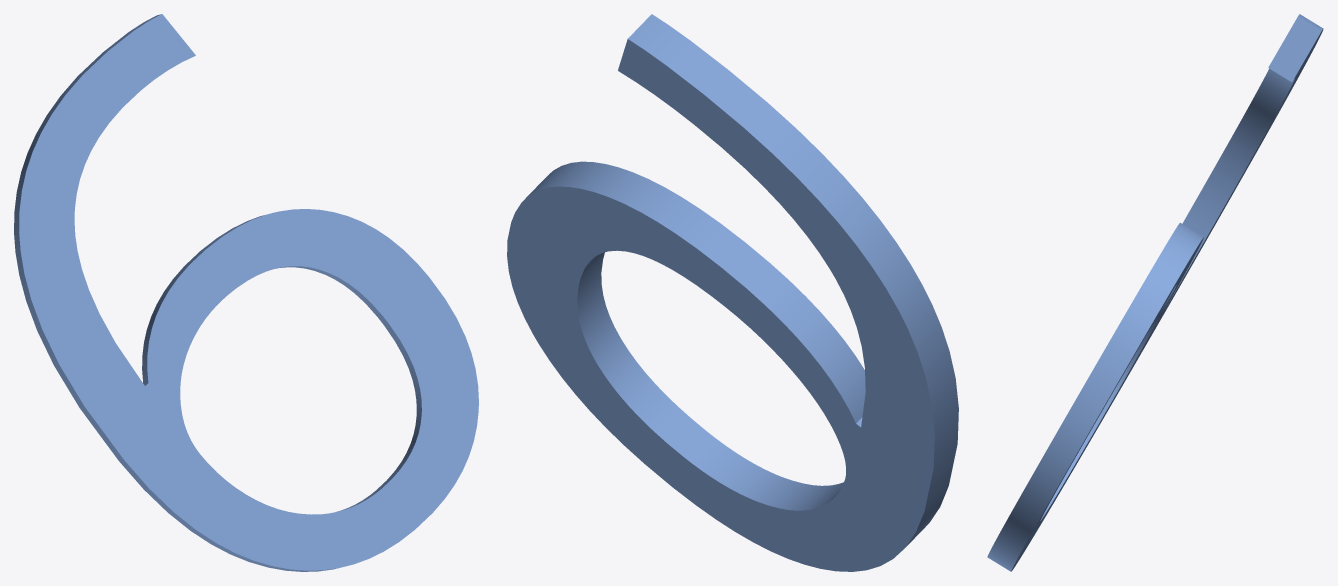
The model's file is New_Number_6.gltf.
The picture shows the model from 3 angles, left to right: view 1: azimuth 30°, elevation 25°; view 2: azimuth 150°, elevation 25°; view 3: azimuth 270°, elevation 25°; orthographic projection. The views are drawn at different scales.
Visible parts, largest first — view 1: Part 69; view 2: Part 69; view 3: Part 69.
Boxes of the visible parts, box(x1,y1,x2,y2) form: Part 69: box(14, 14, 478, 571); Part 69: box(507, 14, 958, 571); Part 69: box(987, 14, 1323, 571).
Bounding box in the file's own units: 0.00424 × 0.0052 × 0.00306.
